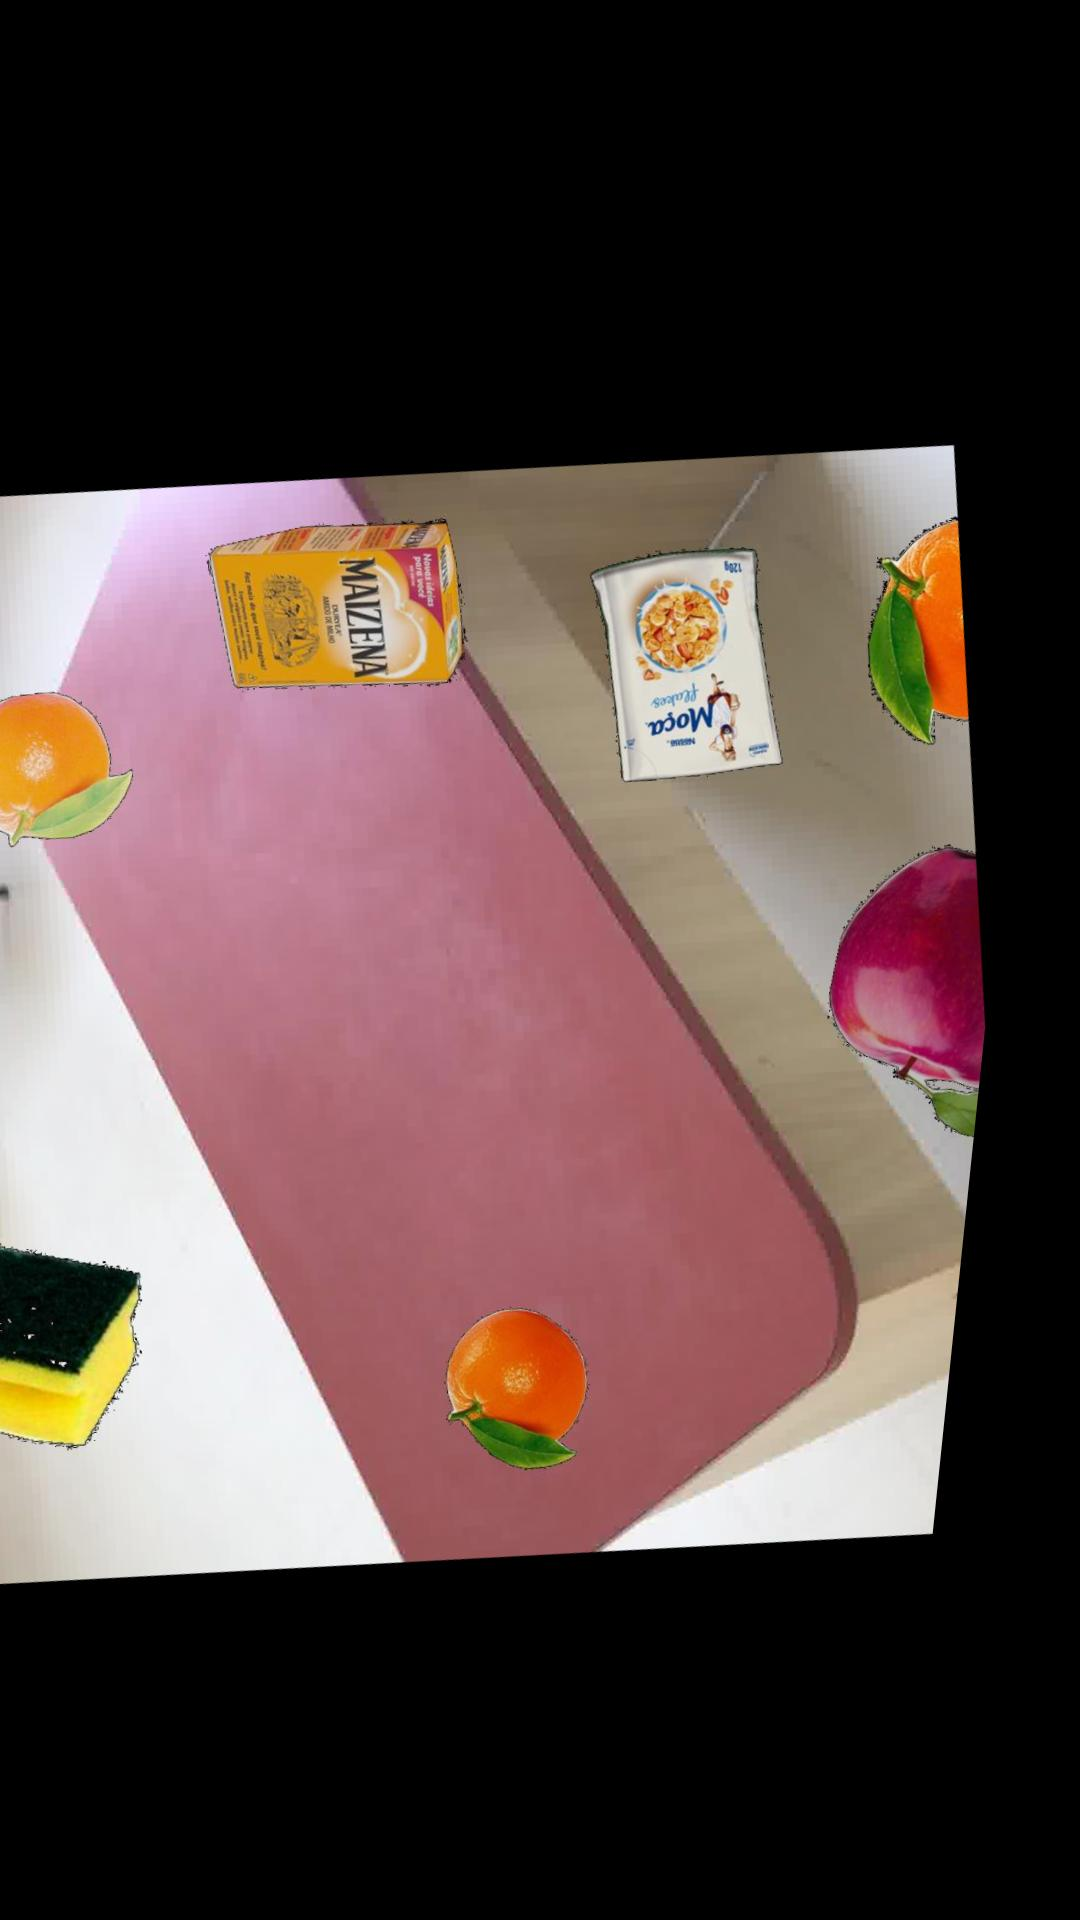apple: (845, 823, 1005, 1110)
corn flakes: (599, 527, 794, 765)
orange: (877, 493, 982, 721), (0, 687, 146, 844), (472, 1292, 613, 1453)
sponge: (0, 1236, 167, 1441)
